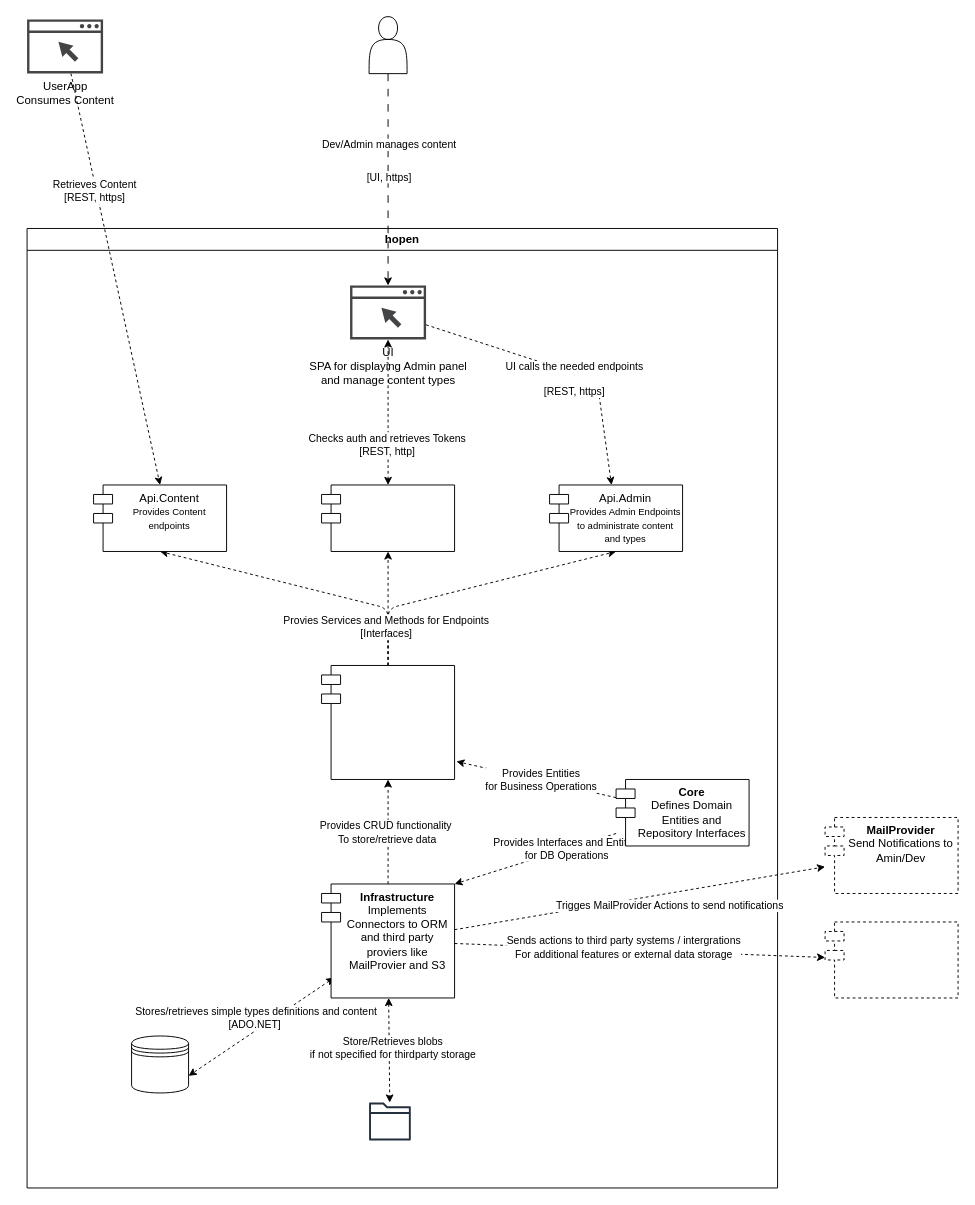
Some shapes in this 975 by 1205 pixel diagram are drawn without their labels. The shapes that lost their labels are listed below. From the top down, each one's centre as x and y in pixels, then its label:
the point at 388,517: Api.Auth Providdes Security Features for Authentication
the point at 388,722: Application Handles ContentType definistions and CRUD Operations for Content
the point at 891,959: ThirdParty Systems Stores Data or add additional Features for Content
the point at 160,1064: PSQL
